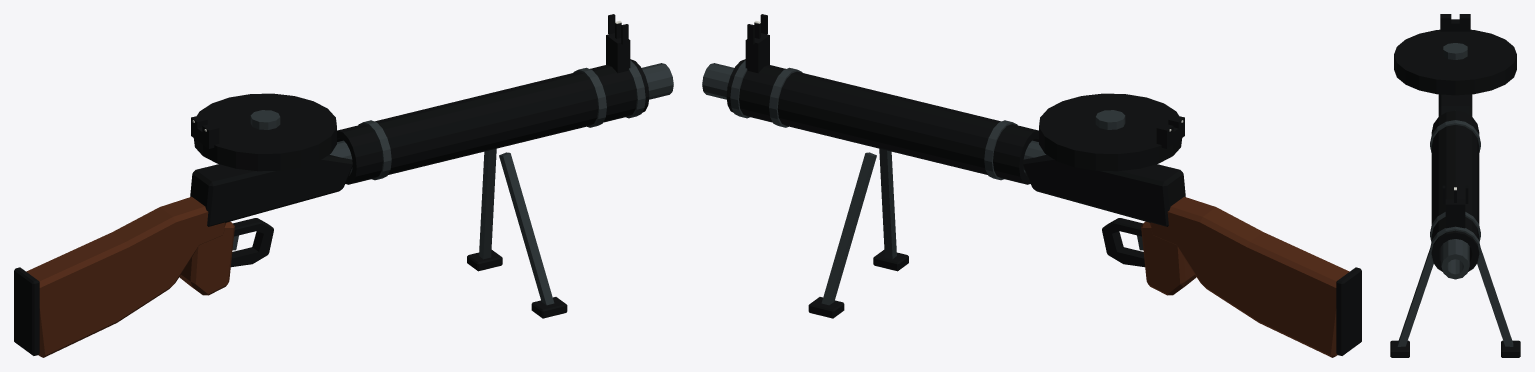
The model's file is CE_Gun_Lewis.obj.
3 renders of one model, left to right at view 1: azimuth 30°, elevation 25°; view 2: azimuth 150°, elevation 25°; view 3: azimuth 270°, elevation 25°, orthographic. The views are drawn at different scales.
Parts seen in each view (by area): view 1: Lewis_full_cylindrical_cooling_shroud, Lewis_individually_shaped_stock_and_bedding, Lewis_horizontal_pan, Lewis_contoured_receiver, Lewis_compact_rear_wooden_grip, Contoured_butt_plate, Bipod_leg.001, Bipod_leg, Shaped_trigger_guard, Hollow_gun_barrel, R3_Front_physically_seated_ramp, R3_Rear_continuous_open_notch_leaf (+5 smaller); view 2: Lewis_full_cylindrical_cooling_shroud, Lewis_individually_shaped_stock_and_bedding, Lewis_horizontal_pan, Lewis_contoured_receiver, Lewis_compact_rear_wooden_grip, Contoured_butt_plate, Bipod_leg, Bipod_leg.001, Shaped_trigger_guard, Hollow_gun_barrel, R3_Front_physically_seated_ramp, R3_Rear_continuous_open_notch_leaf (+5 smaller); view 3: Lewis_horizontal_pan, Lewis_full_cylindrical_cooling_shroud, Hollow_gun_barrel, Bipod_leg, Bipod_leg.001, Lewis_contoured_receiver, R3_Front_physically_seated_ramp, R3_Rear_continuous_open_notch_leaf, Pan_central_latch, Lewis_shroud_ring.002, Lewis_shroud_ring, Bipod_shoe (+2 smaller).
Part boxes in pixels (x1,y1,x2,y2): Lewis_full_cylindrical_cooling_shroud: [337, 59, 649, 184]; Lewis_individually_shaped_stock_and_bedding: [26, 196, 225, 357]; Lewis_horizontal_pan: [193, 93, 336, 171]; Lewis_contoured_receiver: [190, 154, 352, 226]; Lewis_compact_rear_wooden_grip: [179, 221, 234, 295]; Contoured_butt_plate: [14, 267, 39, 355]; Bipod_leg.001: [499, 152, 554, 305]; Bipod_leg: [479, 148, 496, 259]; Shaped_trigger_guard: [231, 218, 273, 267]; Hollow_gun_barrel: [330, 63, 673, 172]; R3_Front_physically_seated_ramp: [606, 33, 630, 73]; R3_Rear_continuous_open_notch_leaf: [191, 115, 219, 148]; Lewis_full_cylindrical_cooling_shroud: [726, 59, 1038, 184]; Lewis_individually_shaped_stock_and_bedding: [1150, 196, 1349, 357]; Lewis_horizontal_pan: [1039, 93, 1182, 171]; Lewis_contoured_receiver: [1023, 154, 1185, 226]; Lewis_compact_rear_wooden_grip: [1141, 221, 1196, 295]; Contoured_butt_plate: [1336, 267, 1361, 355]; Bipod_leg: [821, 152, 876, 305]; Bipod_leg.001: [879, 148, 896, 259]; Shaped_trigger_guard: [1102, 218, 1144, 267]; Hollow_gun_barrel: [702, 63, 1045, 172]; R3_Front_physically_seated_ramp: [745, 33, 769, 73]; R3_Rear_continuous_open_notch_leaf: [1156, 115, 1184, 148]; Lewis_horizontal_pan: [1394, 29, 1516, 95]; Lewis_full_cylindrical_cooling_shroud: [1431, 110, 1479, 271]; Hollow_gun_barrel: [1441, 239, 1469, 279]; Bipod_leg: [1477, 249, 1513, 346]; Bipod_leg.001: [1397, 249, 1433, 346]; Lewis_contoured_receiver: [1438, 94, 1472, 116]; R3_Front_physically_seated_ramp: [1445, 199, 1465, 228]; R3_Rear_continuous_open_notch_leaf: [1440, 14, 1470, 31]; Pan_central_latch: [1443, 43, 1467, 59]; Lewis_shroud_ring.002: [1430, 226, 1480, 268]; Lewis_shroud_ring: [1430, 120, 1480, 152]; Bipod_shoe: [1501, 340, 1520, 357].
Size of the model in its own units: 1.49 by 0.541 by 0.306.
